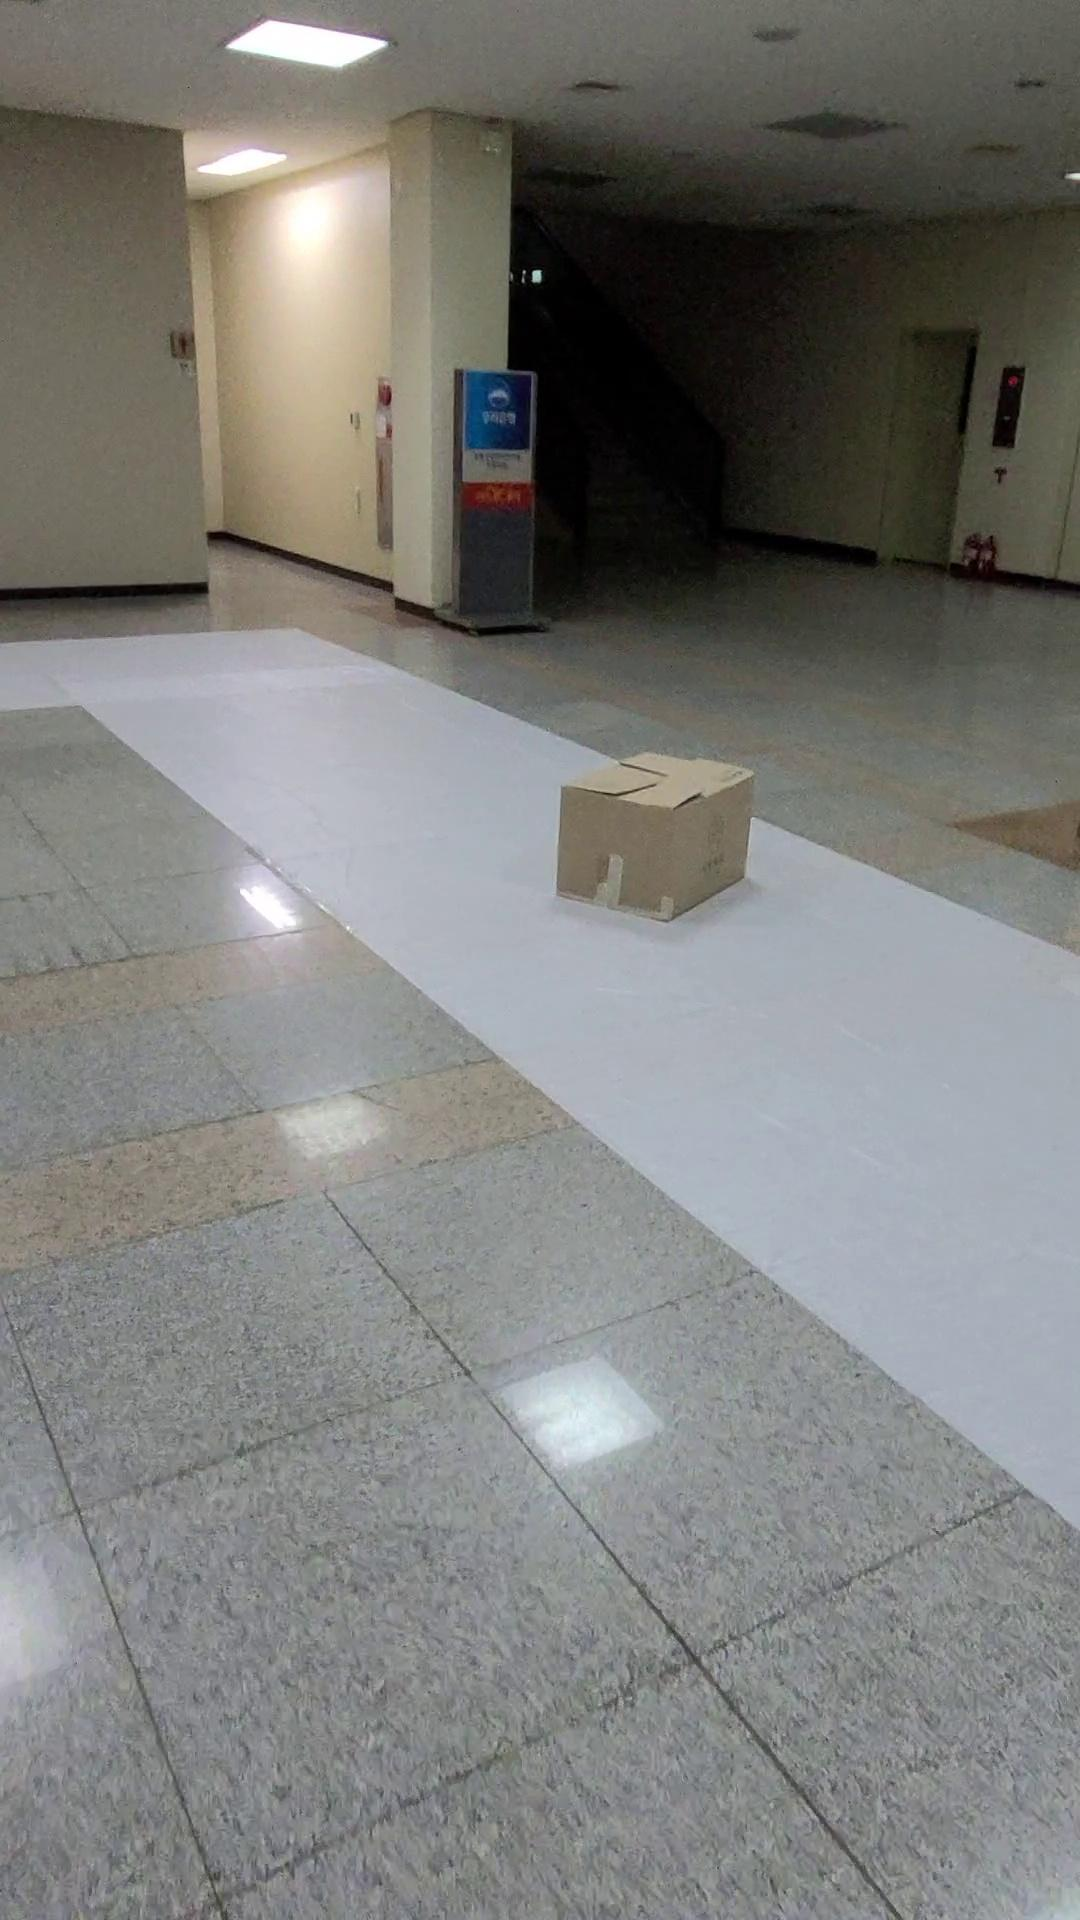Box: (471, 725, 793, 975)
